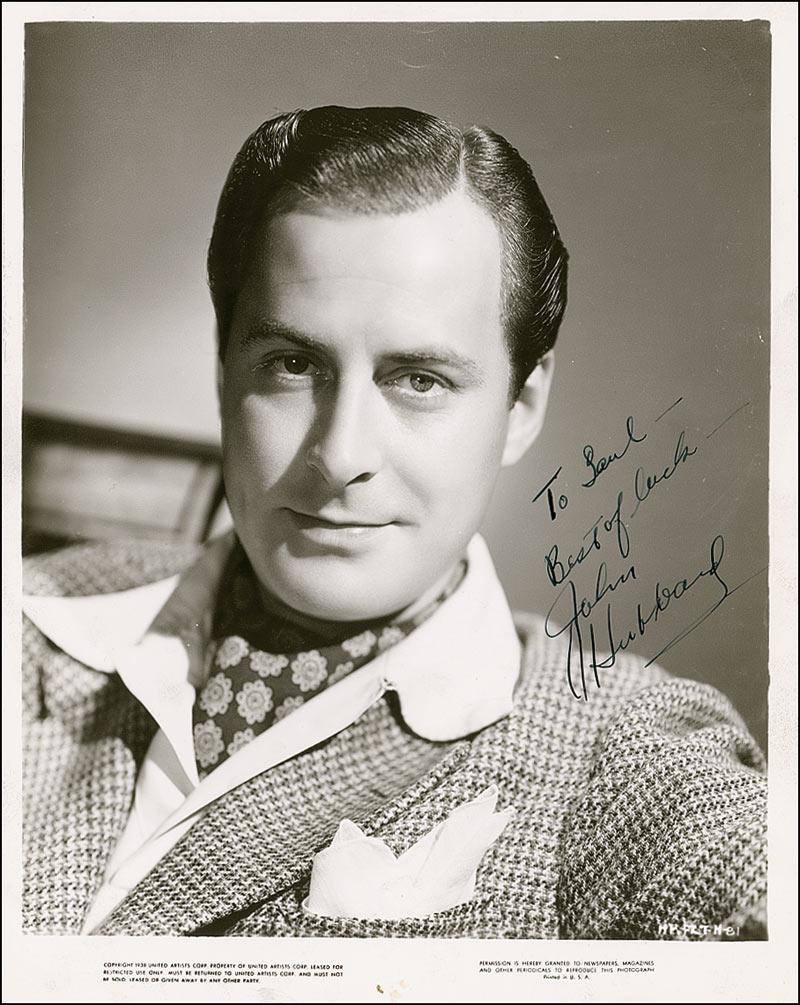bad: (205, 277, 526, 598)
